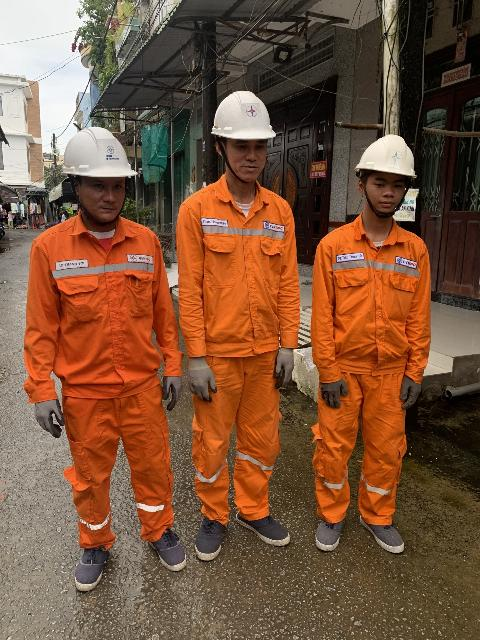gloves: (22, 389, 74, 441), (173, 354, 225, 402), (267, 338, 307, 398), (392, 369, 430, 414), (316, 373, 352, 416), (161, 357, 183, 414)
helmet: (51, 113, 151, 201), (198, 72, 288, 155), (344, 130, 426, 188)
shoes: (358, 504, 418, 567), (74, 534, 128, 595), (238, 505, 295, 558), (188, 508, 230, 570), (145, 533, 192, 582), (313, 506, 350, 560)
